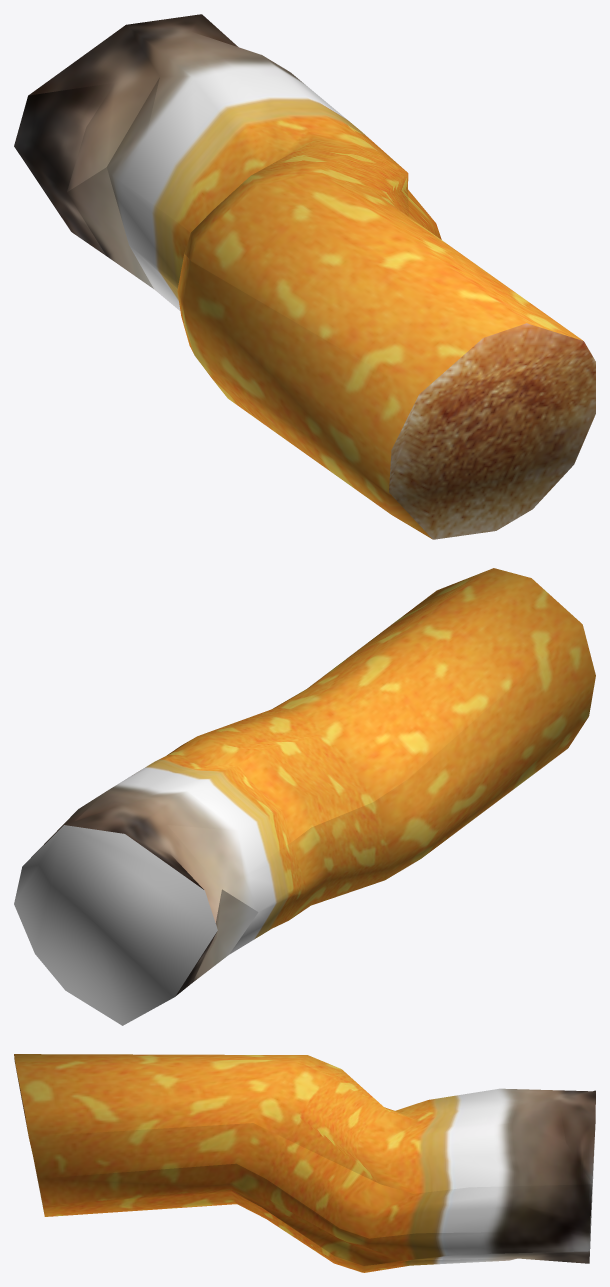
The model's file is trash-cigarette.fbx.
3 views of the same model, one above another, from view 1: azimuth 30°, elevation 25°; view 2: azimuth 150°, elevation 25°; view 3: azimuth 270°, elevation 25° (orthographic). The views are drawn at different scales.
Parts seen in each view (by area): view 1: Cigarette; view 2: Cigarette; view 3: Cigarette.
Boxes of the visible parts, <box> form: Cigarette: <box>14,14,595,539</box>; Cigarette: <box>14,568,595,1025</box>; Cigarette: <box>14,1054,595,1272</box>.
Size of the model in its own units: 1.34 by 1.13 by 3.32.
